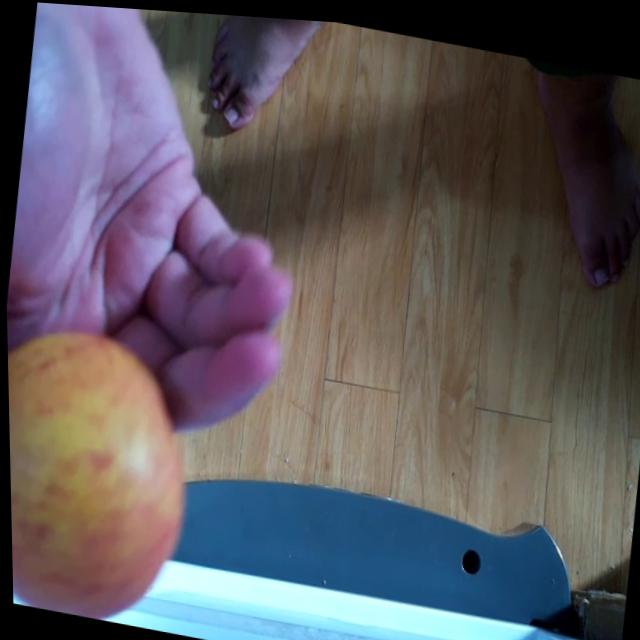apple: (6, 319, 208, 633)
